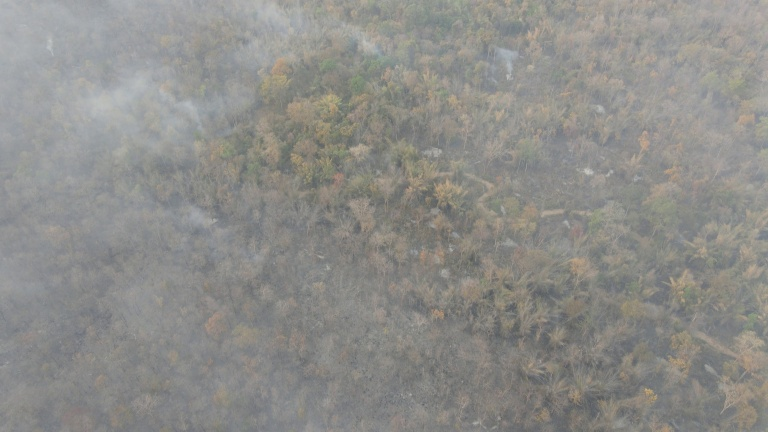smoke: (1, 1, 410, 423), (482, 44, 524, 88)
